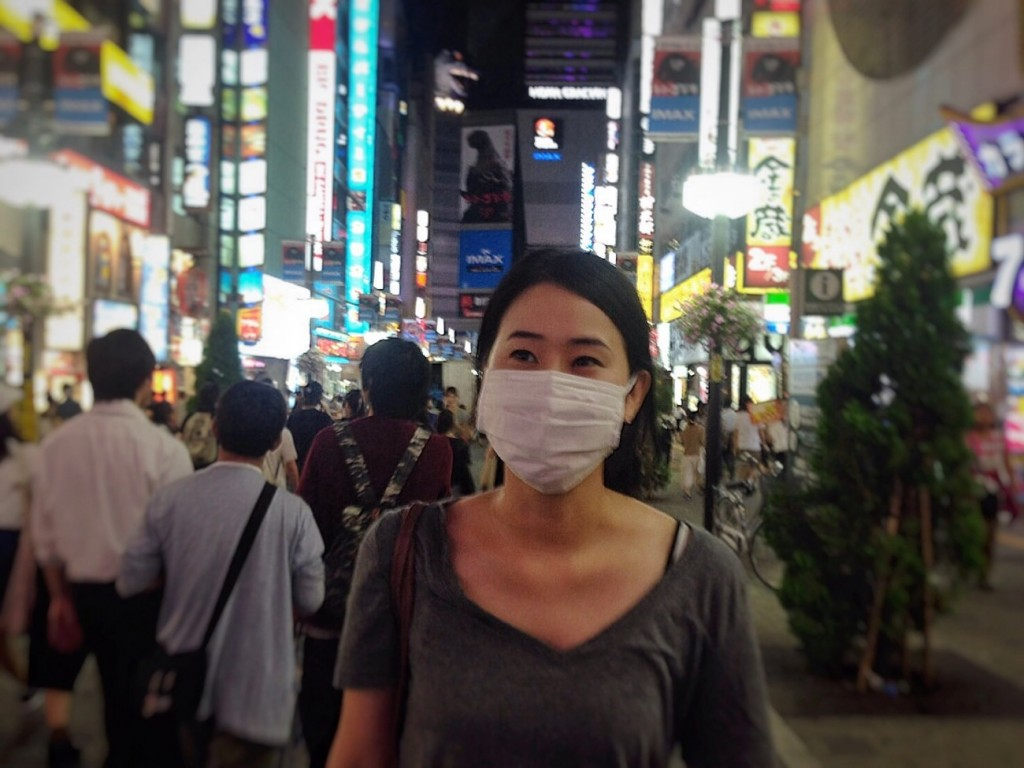surgical: (461, 361, 639, 499)
